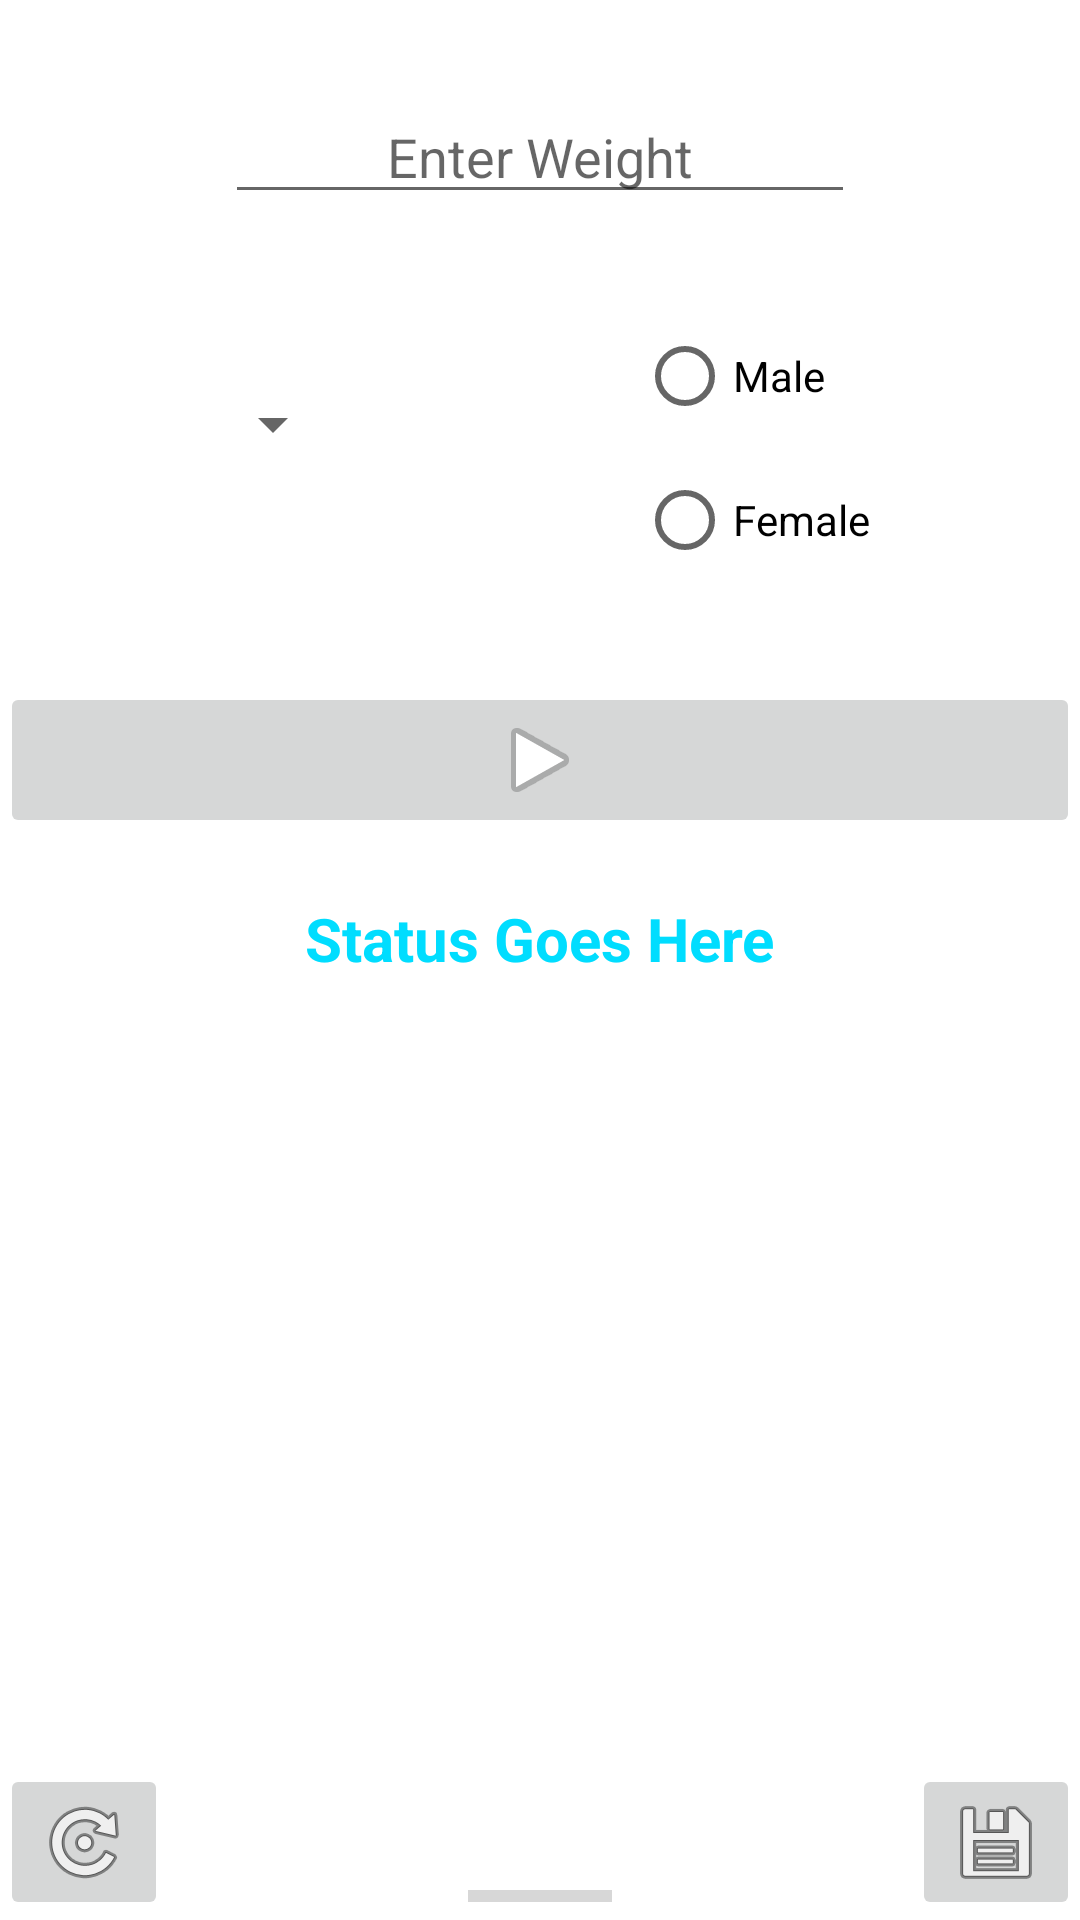

Named icons in this screenshot (1080 × 1920) and their bounding boxes, (x1, y1, x2, y2):
rotate: (12, 1782, 156, 1902)
save: (924, 1782, 1068, 1902)
